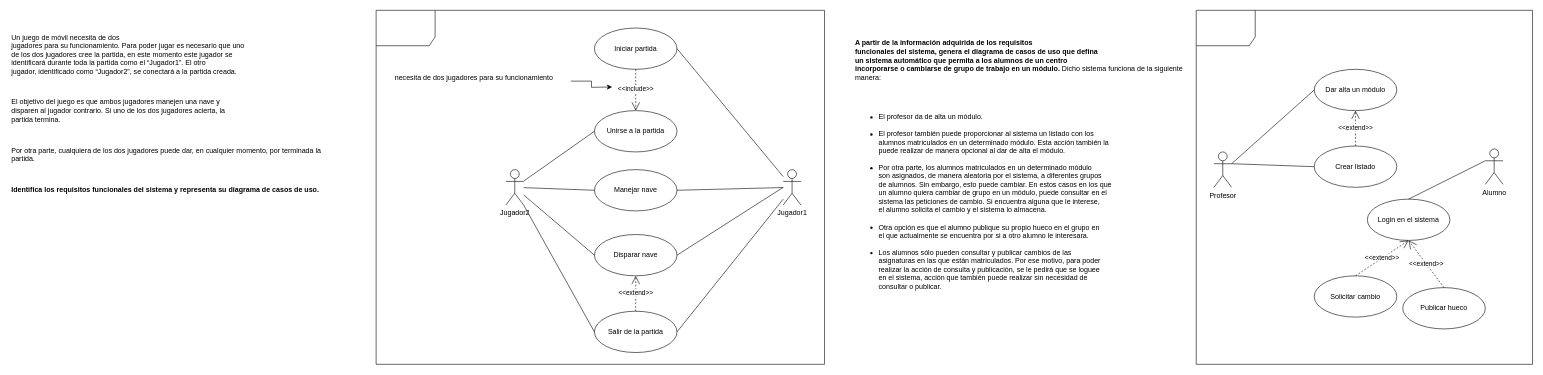
Image size: 1543x375. Some labels were removed from this diagram. The shapes that lost their labels are listed below. From the top down, each one's centre as x and y in pixels, then its label:
At point (600, 187): "EJERCICIO1".
At point (1364, 187): "EJERCICIO2".
